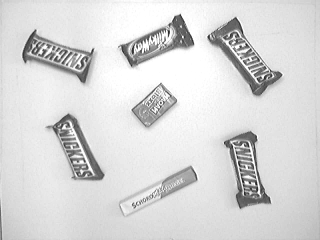Maoam: (129, 81, 180, 128)
Milkyway: (115, 11, 196, 71)
Riegel: (116, 164, 199, 218)
Snickers: (206, 16, 285, 98), (19, 26, 98, 87), (45, 110, 107, 184), (221, 129, 272, 209)
